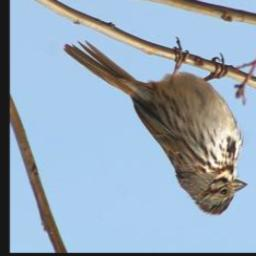Sparrow: (61, 38, 248, 217)
